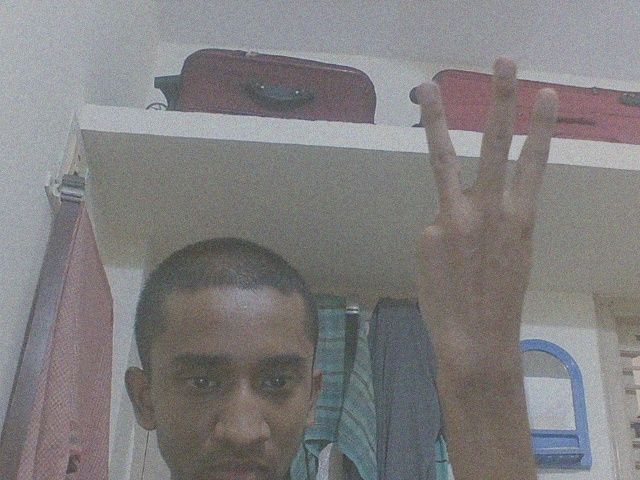hand: (400, 56, 562, 360)
